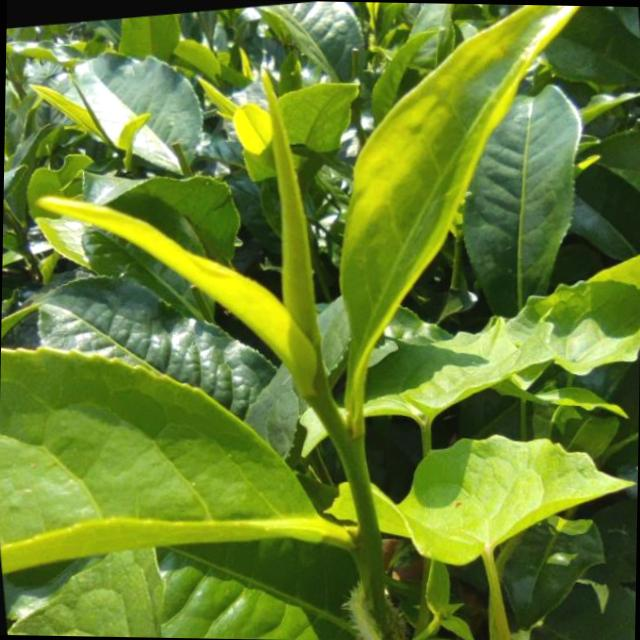Stem: (336, 435, 367, 474)
